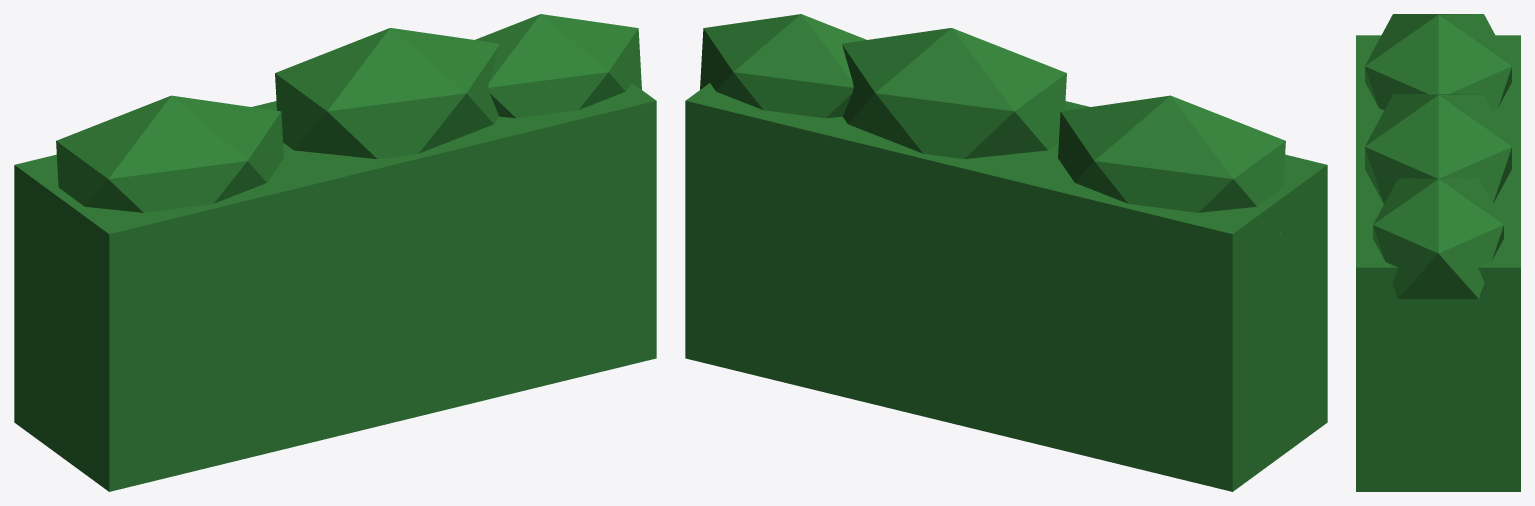
Rendered from hedge.glb.
3 views of the same model, side by side, from view 1: azimuth 30°, elevation 25°; view 2: azimuth 150°, elevation 25°; view 3: azimuth 270°, elevation 25° (orthographic). The views are drawn at different scales.
Visible parts, largest first — view 1: hedge; view 2: hedge; view 3: hedge.
Boxes of the visible parts, box(x1,y1,x2,y2) form: hedge: box(14, 14, 656, 491); hedge: box(685, 14, 1327, 491); hedge: box(1356, 14, 1520, 491).
Bounding box in the file's own units: 2.11 × 1.22 × 0.6.
